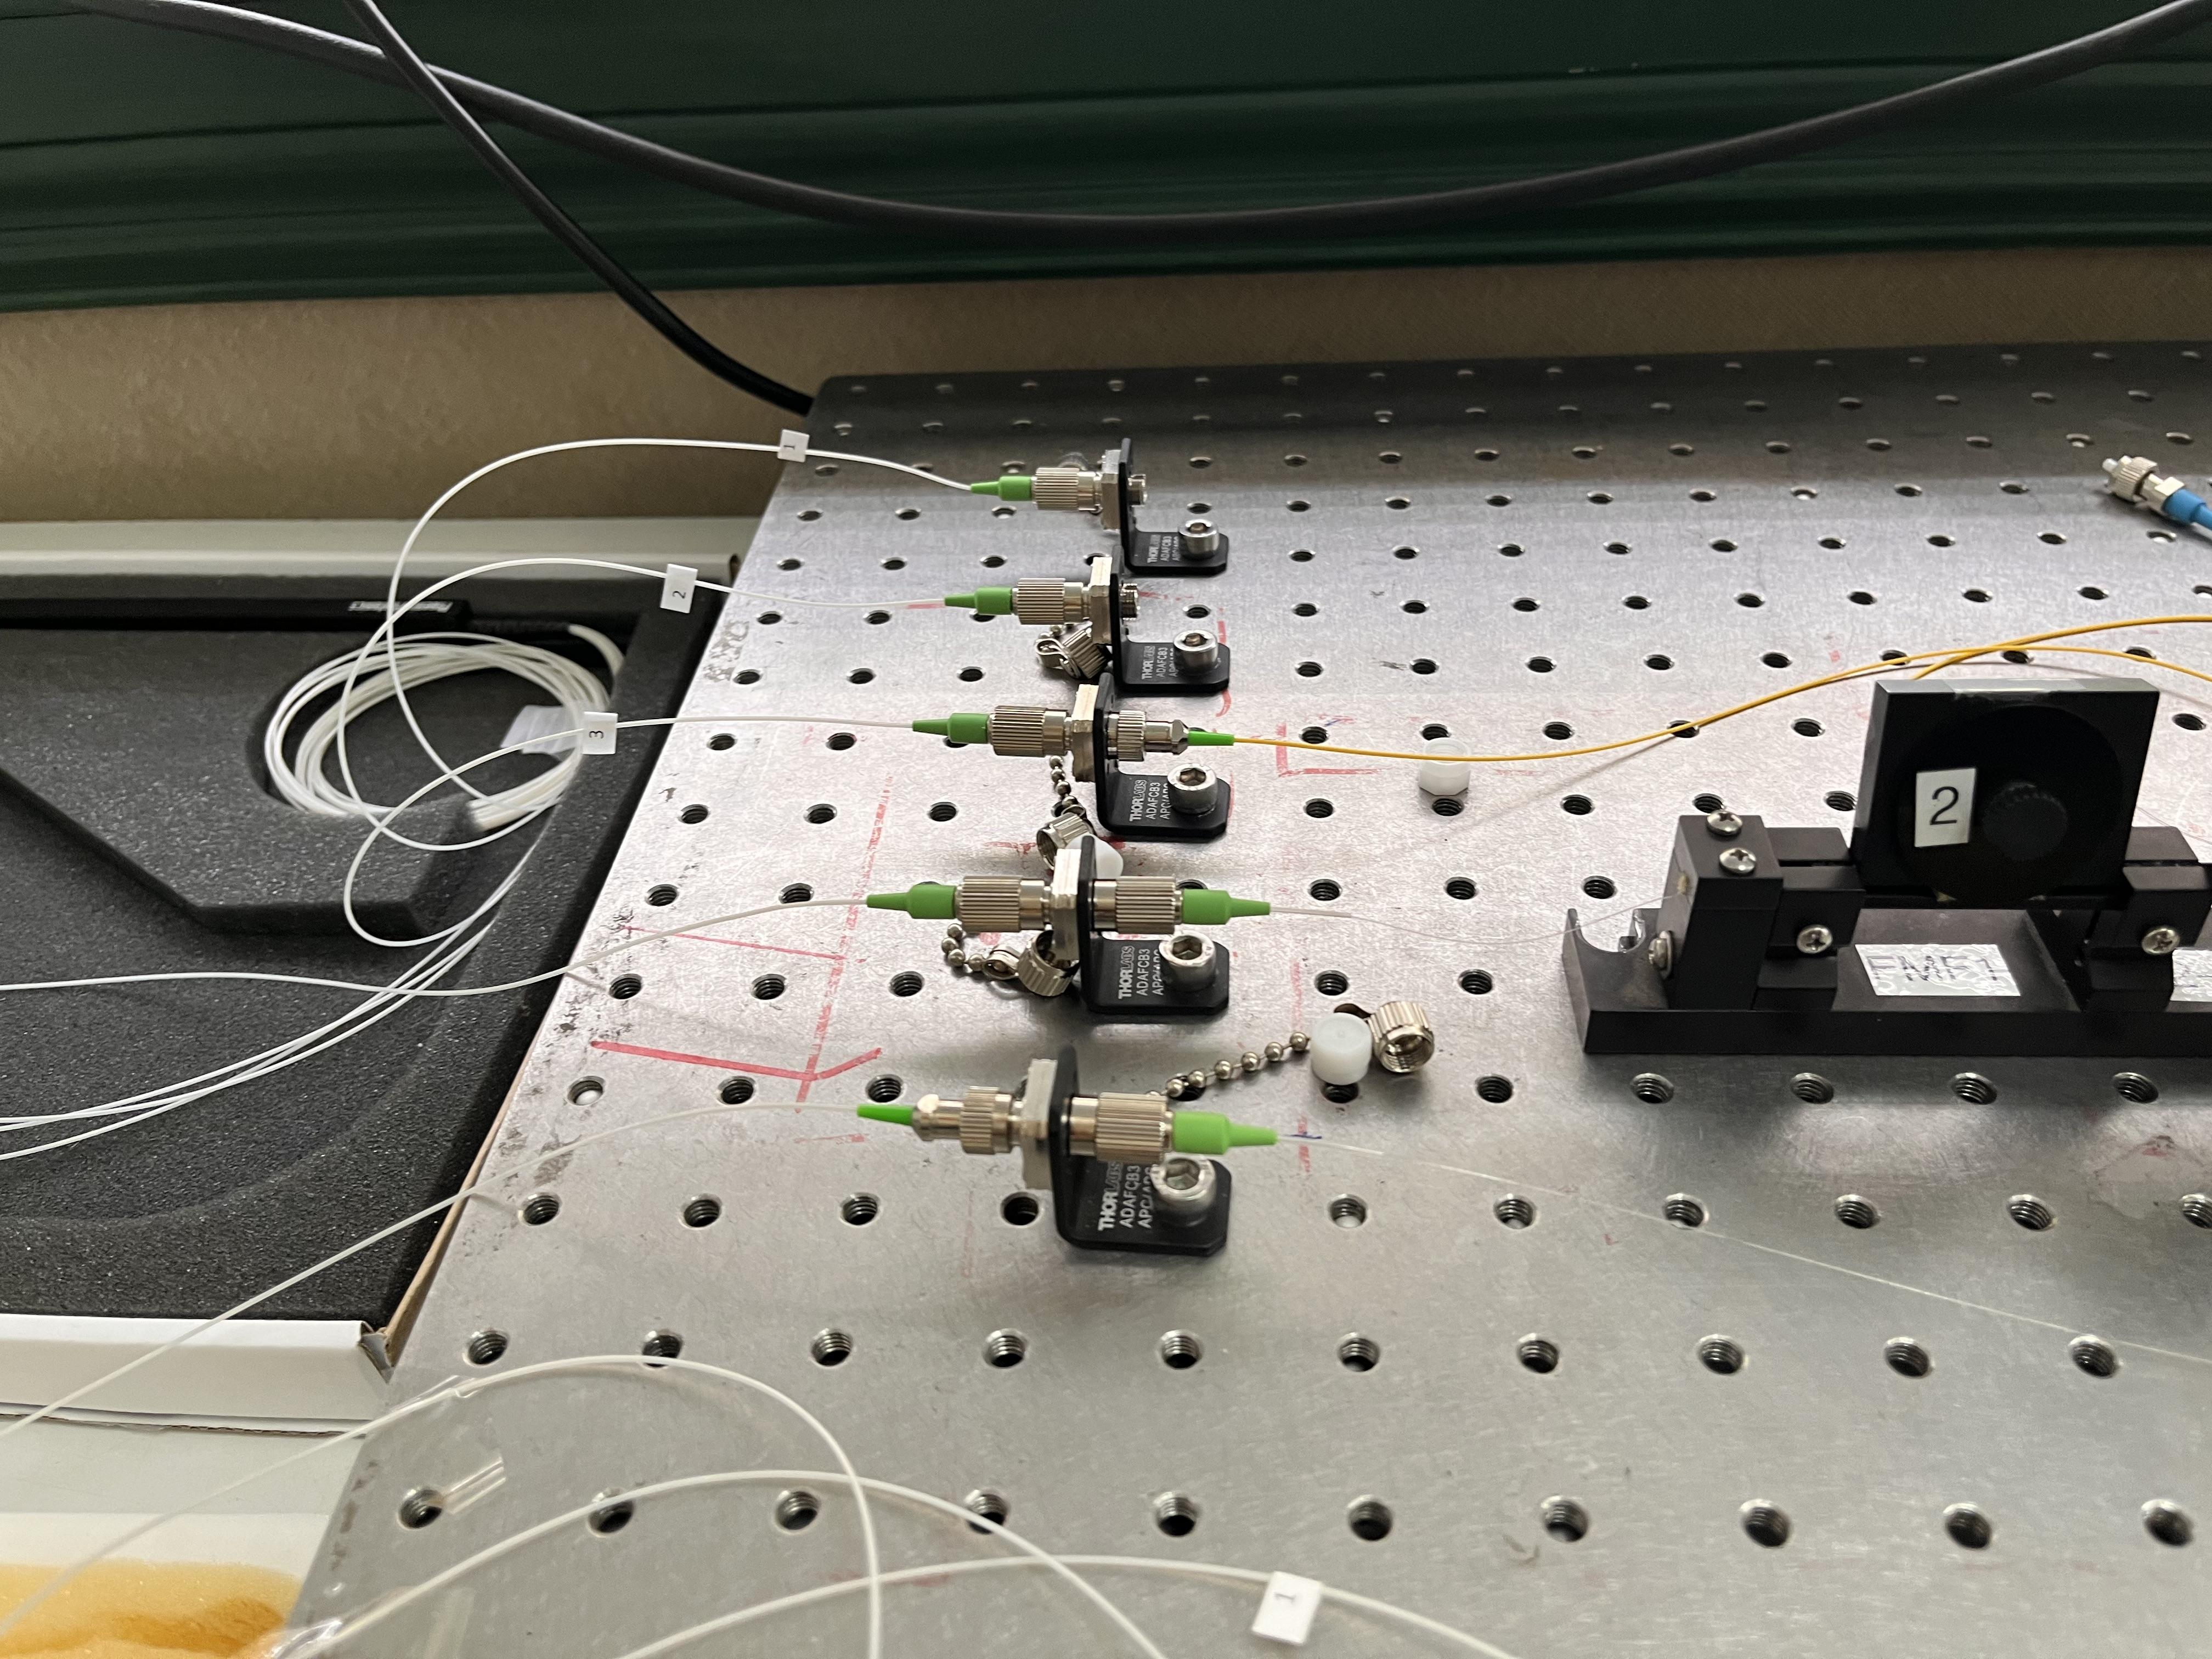paddle_polarization_controller: (1547, 673, 2212, 1087)
